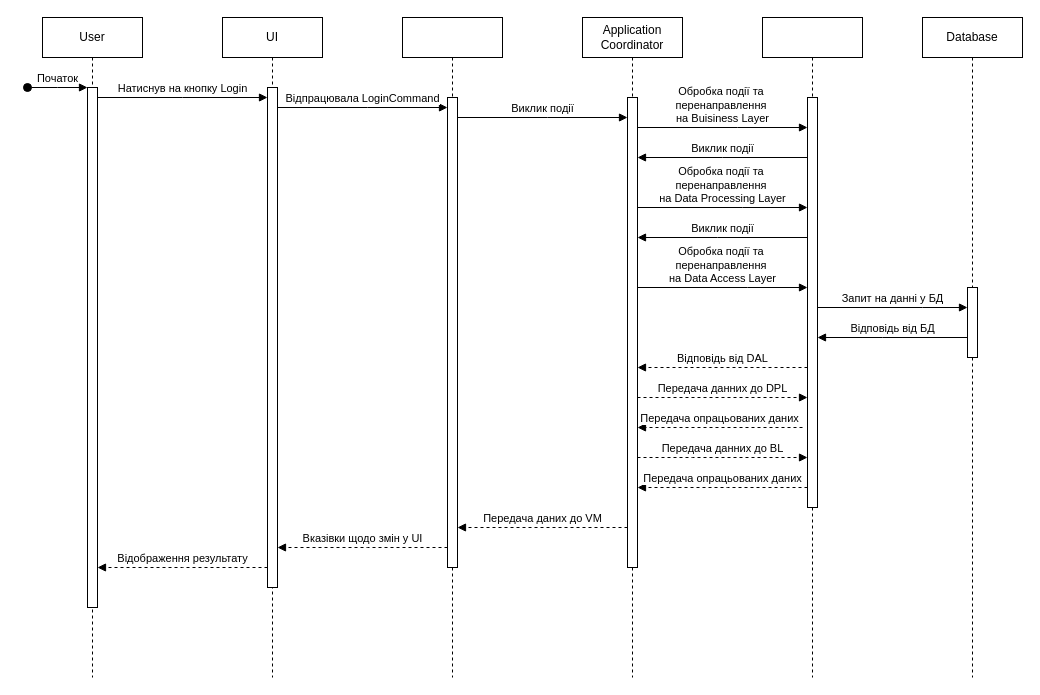
Image size: 1040x695. Some labels were removed from this diagram. The shapes that lost their labels are listed below. From the top down, each one's box as (x1, y1, x2, y2) in pixels, then its label:
(402, 16, 502, 678): LoginViewModel
(762, 16, 862, 678): Logic Layers
